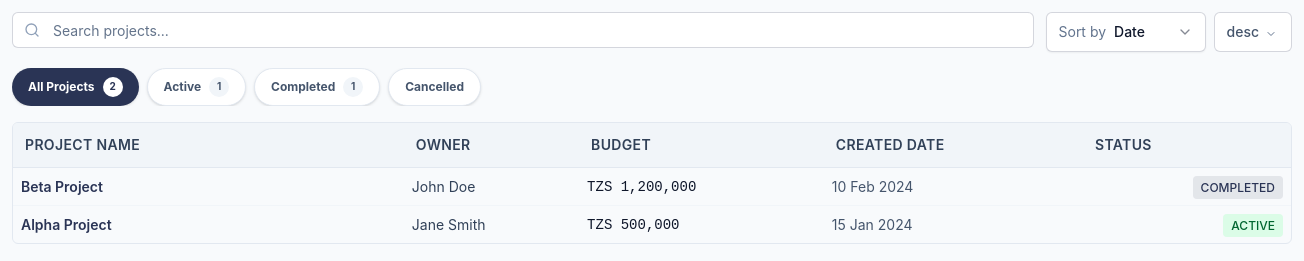
Scenario: ProjectList › filters projects by status pill click
This screenshot has width=1304, height=261.
expect the text "Alpha Project" is shown: met, box 21,216 -> 112,232
Click the COMPLETED pill
Click the button "Completed 1". click: click(317, 87)
box: 254,68 -> 380,106
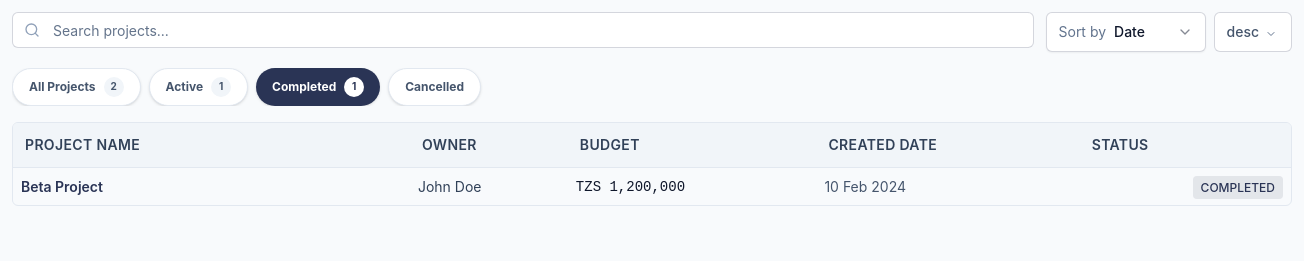
expect the text "Beta Project" is shown: met, box 21,178 -> 103,194
expect the text "Alpha Project" is not shown: met
